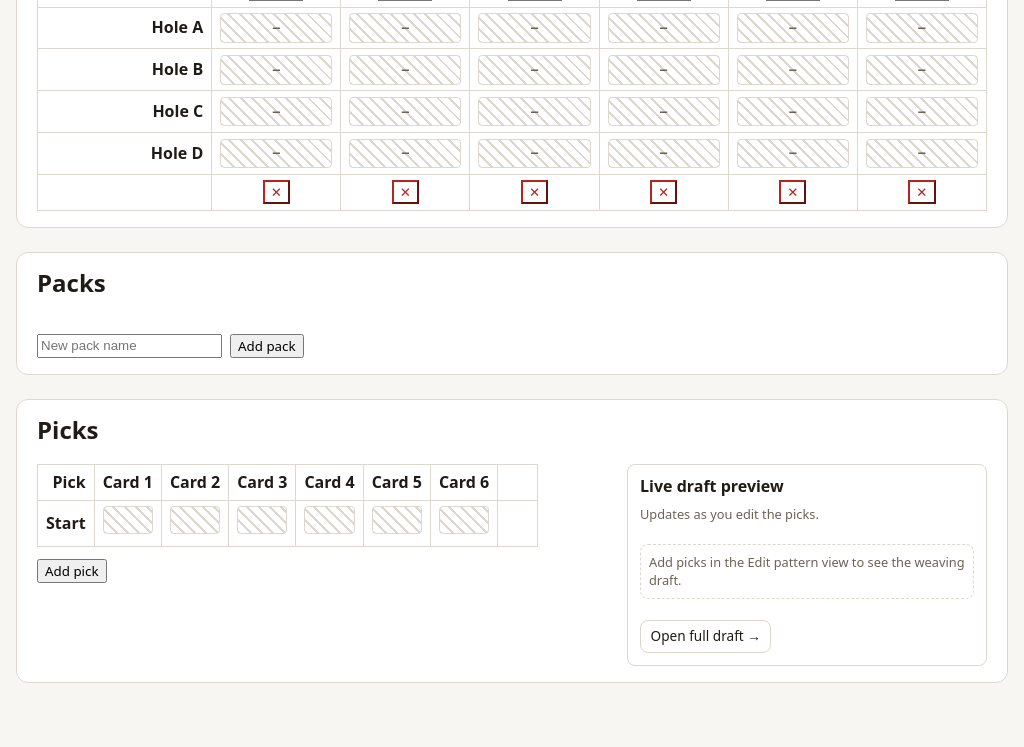
Test: EditPatternPage › "Add pick" adds a row, and clicking a card cell cycles its action label
(page scrolled)
Click the button "Add pick" at x=72, y=571, box [37,559,106,583]
(page scrolled)
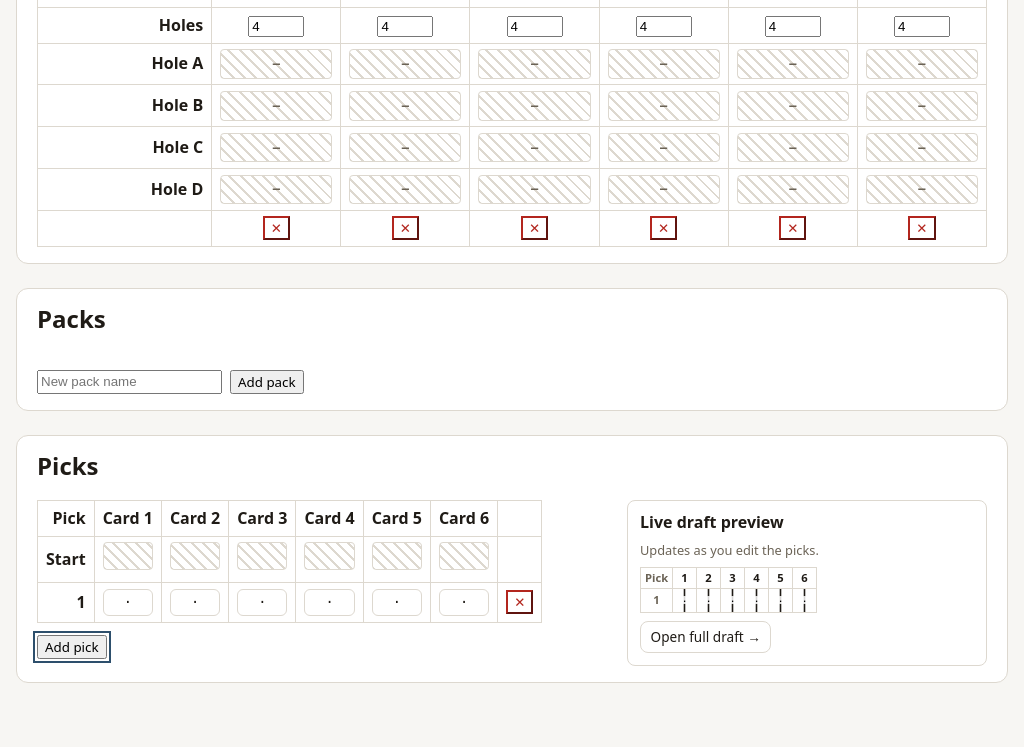
Now the button named "Pick 1 card 1 action" reads "·"
Click the button named "Pick 1 card 1 action" at x=128, y=602, box [103,589,153,616]
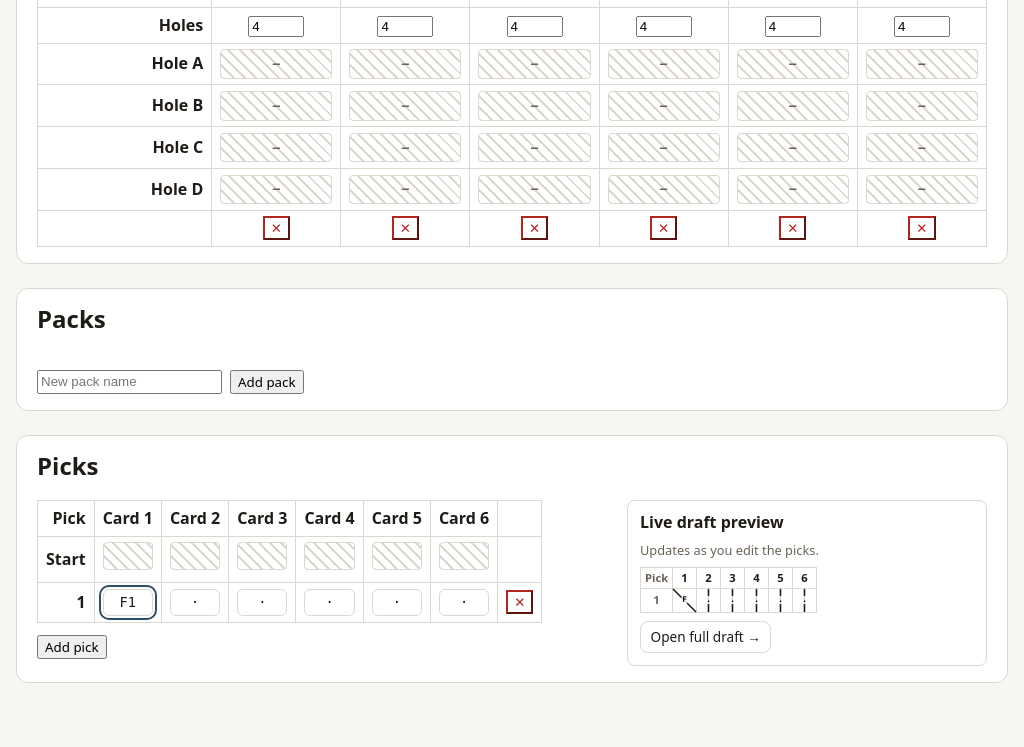
Now the button named "Pick 1 card 1 action" reads "F1"
Click the button named "Pick 1 card 1 action" at x=128, y=602, box [103,589,153,616]
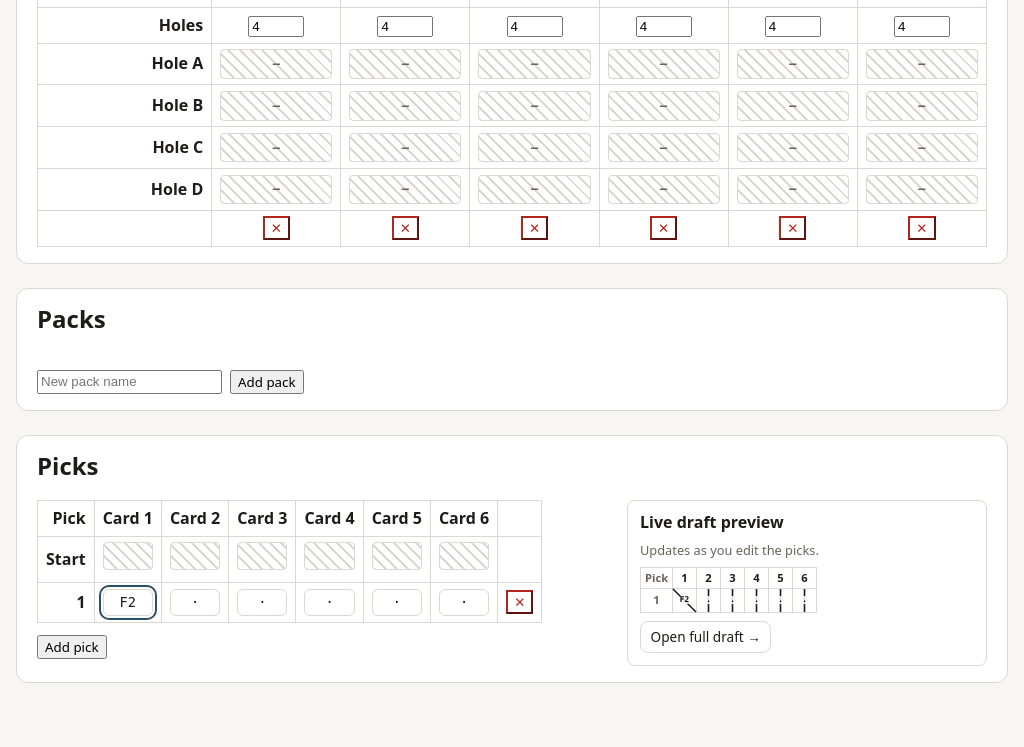
Now the button named "Pick 1 card 1 action" reads "F2", box [103,589,153,616]
